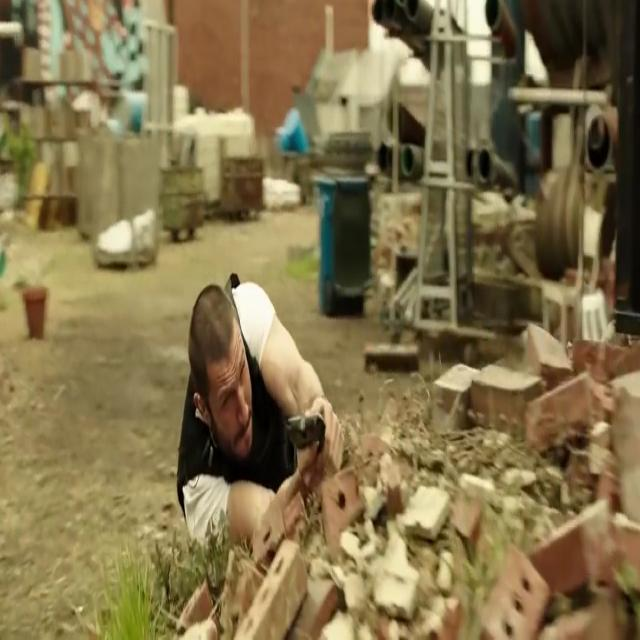Weapon: (278, 392, 330, 484)
